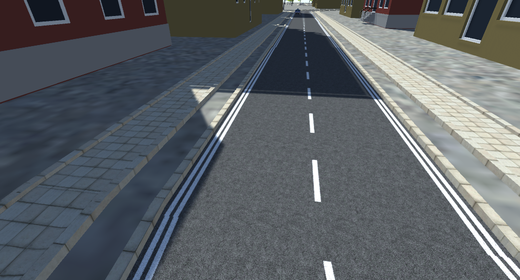centerstrip: (300, 19, 339, 280)
sidestripe: (335, 45, 519, 280), (130, 43, 275, 279)
